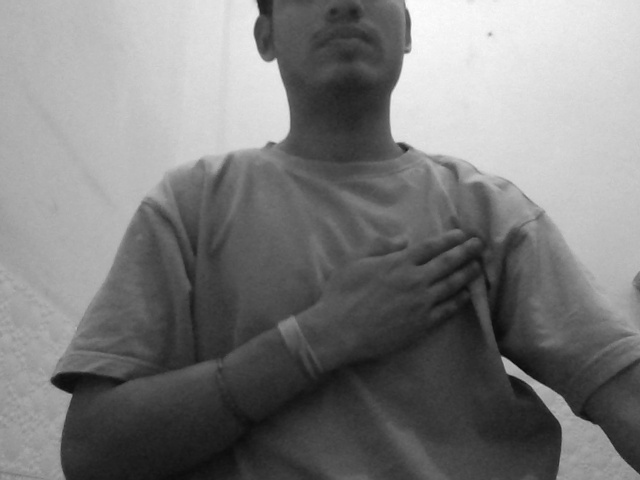Sorry: (297, 200, 503, 399)
